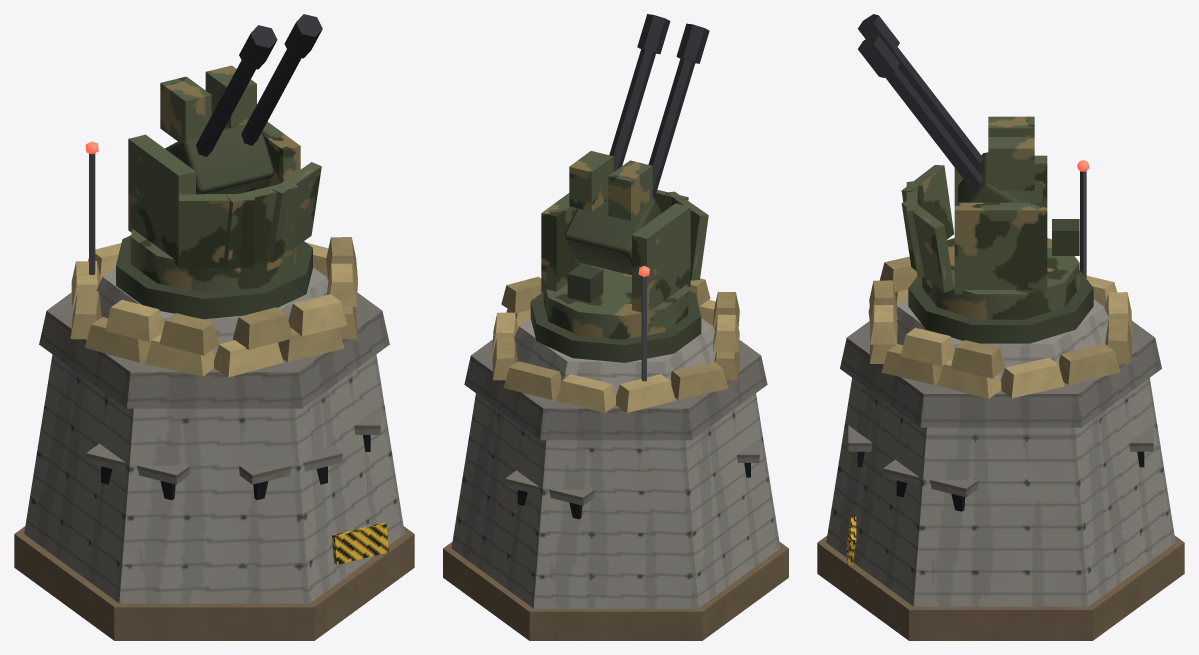
The model's file is tower_l6.glb.
3 renders of one model, left to right at view 1: azimuth 30°, elevation 25°; view 2: azimuth 150°, elevation 25°; view 3: azimuth 270°, elevation 25°, orthographic. The views are drawn at different scales.
Visible parts, largest first — view 1: tower_l6; view 2: tower_l6; view 3: tower_l6.
Part boxes in pixels (x1,y1,x2,y2): tower_l6: [14, 14, 414, 640]; tower_l6: [443, 14, 788, 640]; tower_l6: [817, 14, 1184, 640].
Size of the model in its own units: 0.4642 by 0.8823 by 0.536.
Materials: 2 (1 with a texture image).
